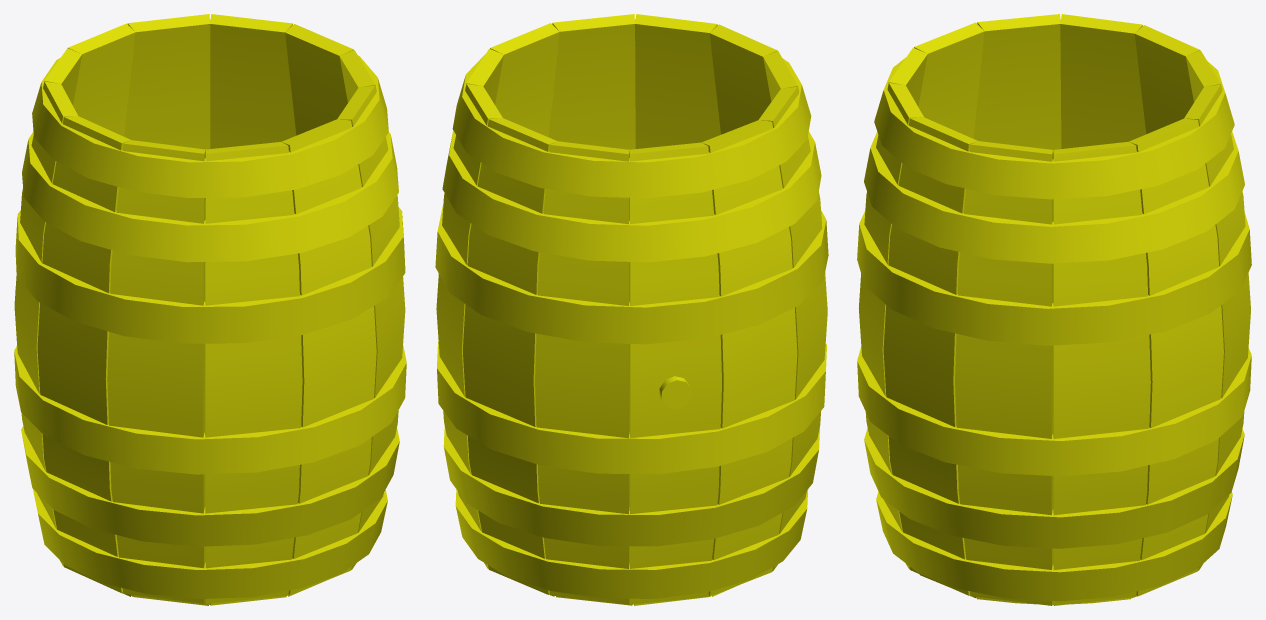
Rendered from WoodenBarrel_Open_v2.fbx.
The picture shows the model from 3 angles, left to right: view 1: azimuth 30°, elevation 25°; view 2: azimuth 150°, elevation 25°; view 3: azimuth 270°, elevation 25°; orthographic projection.
Visible parts, largest first — view 1: WoodenBarrel_Open_v2_LOD0; view 2: WoodenBarrel_Open_v2_LOD0; view 3: WoodenBarrel_Open_v2_LOD0.
Boxes of the visible parts, box(x1,y1,x2,y2) form: WoodenBarrel_Open_v2_LOD0: box(14, 14, 406, 605); WoodenBarrel_Open_v2_LOD0: box(435, 14, 828, 605); WoodenBarrel_Open_v2_LOD0: box(857, 14, 1251, 605).
Size of what is drawn, in the model's own units: 9.51 by 12.15 by 9.51.
